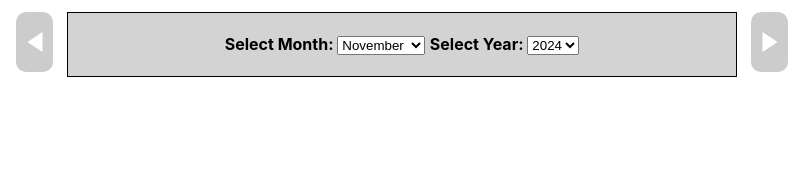
Test: MonthChangeButton Compoenent Tests › rightbutton click increases display and dropdown value
The width and height of the screenshot is (805, 172).
Expected: the dropdown with test id "month-select" shows "November", [337,36,425,55]
Expected: the dropdown with test id "year-select" shows "2024", [527,36,579,55]
Click the button named "increase month" at (770, 42), box [750,12,788,72]
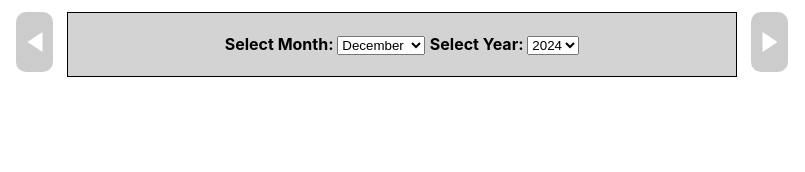
Expected: the dropdown with test id "year-select" shows "2024", [527,36,579,55]
Now the dropdown with test id "month-select" shows "December", box [337,36,425,55]
